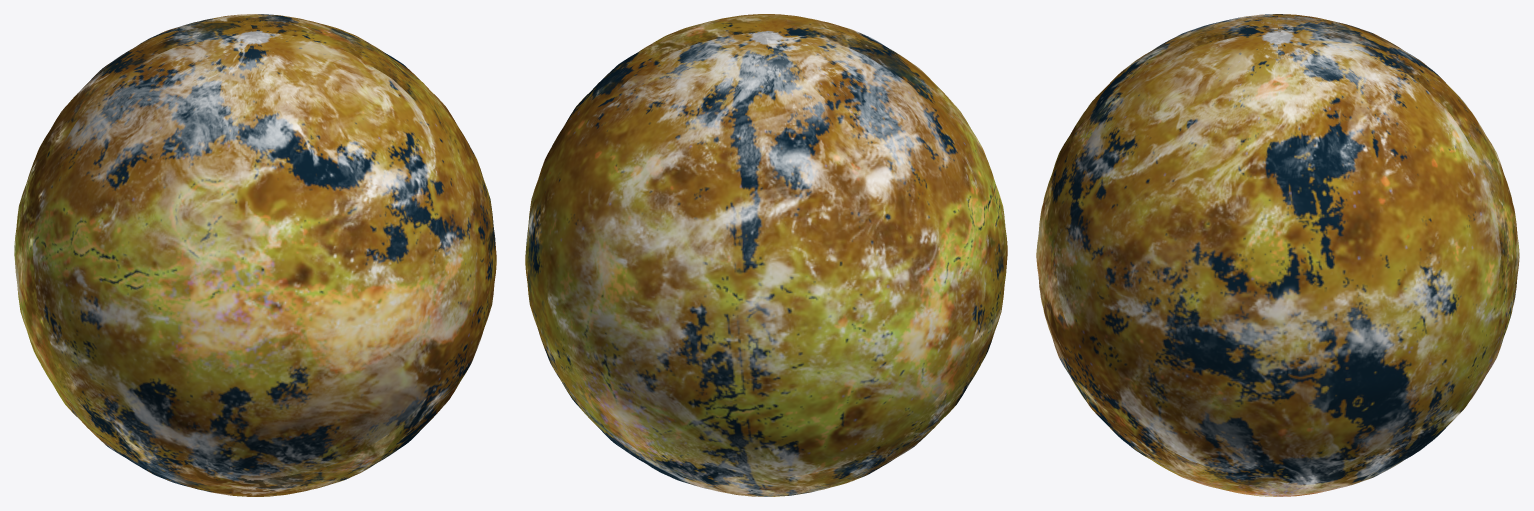
The model's file is planet_afroditi.glb.
3 views of the same model, side by side, from view 1: azimuth 30°, elevation 25°; view 2: azimuth 150°, elevation 25°; view 3: azimuth 270°, elevation 25° (orthographic).
Visible parts, largest first — view 1: Object_3, Object_2; view 2: Object_3, Object_2; view 3: Object_3, Object_2.
Boxes of the visible parts, x1,y1,x2,y2 form: Object_3: [14, 14, 496, 496]; Object_2: [32, 32, 477, 478]; Object_3: [525, 14, 1007, 496]; Object_2: [548, 32, 988, 478]; Object_3: [1036, 14, 1519, 496]; Object_2: [1055, 32, 1501, 477].
Size of the model in its own units: 8.09 by 8.09 by 8.09.
Materials: 2 (1 with a texture image).
